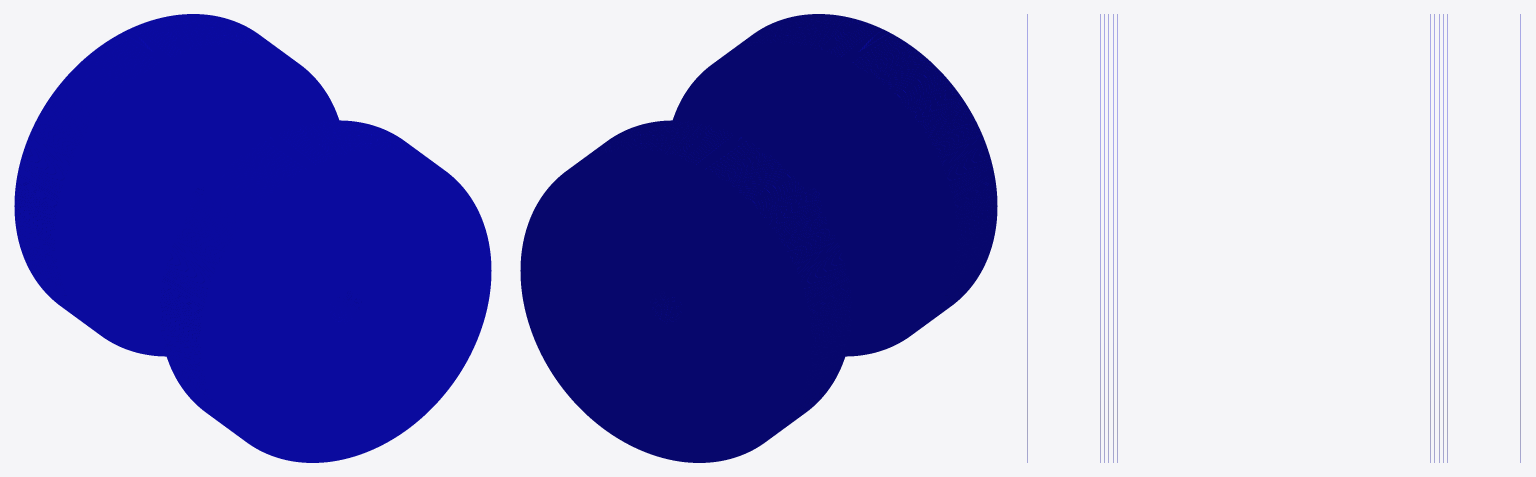
The model's file is HCalEndcap.gltf.
3 views of the same model, side by side, from view 1: azimuth 30°, elevation 25°; view 2: azimuth 150°, elevation 25°; view 3: azimuth 270°, elevation 25° (orthographic). The views are drawn at different scales.
Parts seen in each view (by area): view 1: HCalEndcap; view 2: HCalEndcap; view 3: HCalEndcap.
Boxes of the visible parts, left/top/right/bottom form: HCalEndcap: left=14, top=14, right=491, bottom=462; HCalEndcap: left=520, top=14, right=997, bottom=462; HCalEndcap: left=1027, top=14, right=1520, bottom=462.
Bounding box in the file's own units: 8228 × 8228 × 9075.
